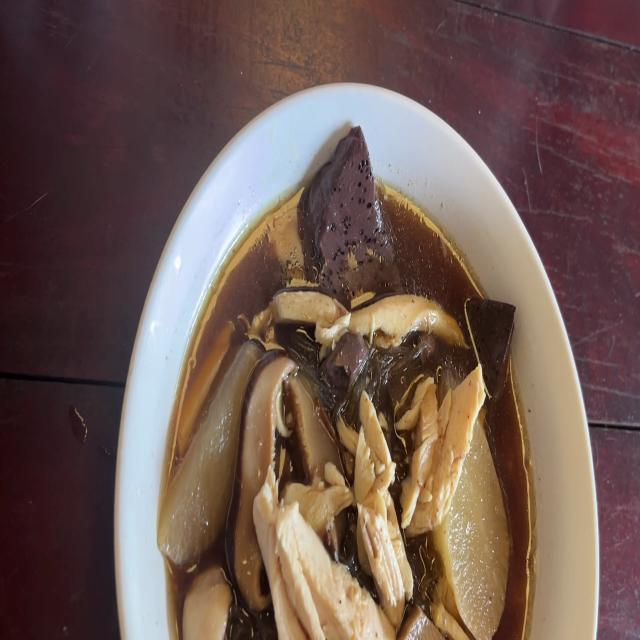boiled_chicken_blood_jelly: (300, 124, 398, 296), (460, 298, 515, 397), (324, 338, 366, 376)
chicken_shredded: (244, 491, 388, 640), (246, 280, 466, 353), (410, 363, 485, 531), (352, 398, 410, 615), (173, 571, 234, 640)
daikon_radish: (157, 334, 249, 553), (447, 464, 510, 629)
noodle: (162, 181, 532, 640)
